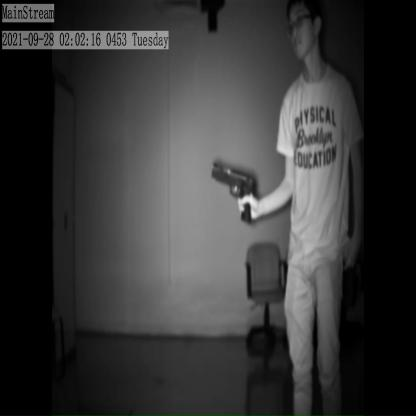weapon: (208, 156, 259, 230)
